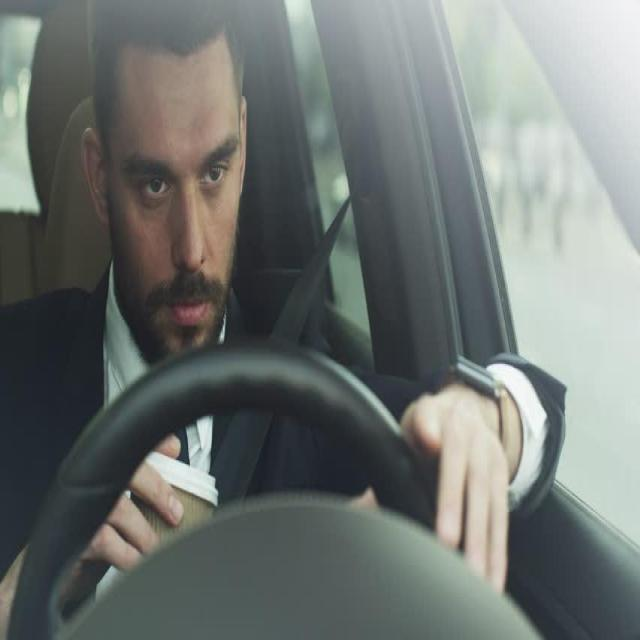Focused: (88, 0, 246, 373)
